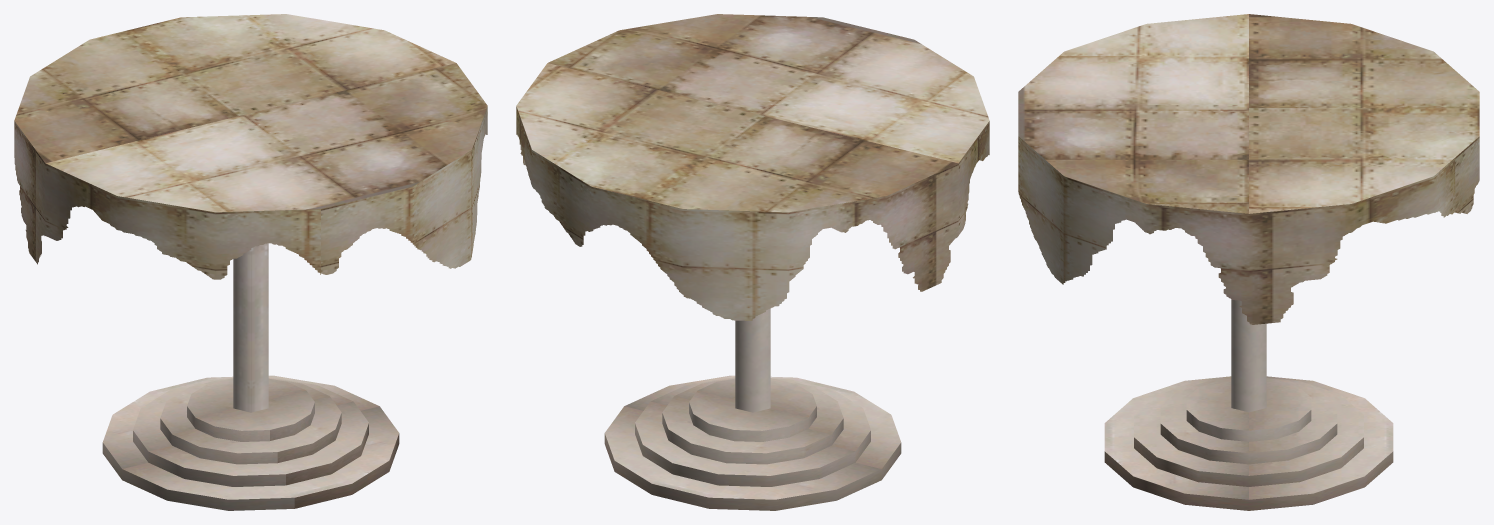
File: table_round_short.fbx
3 views of the same model, side by side, from view 1: azimuth 30°, elevation 25°; view 2: azimuth 150°, elevation 25°; view 3: azimuth 270°, elevation 25° (orthographic).
Visible parts, largest first — view 1: mesh_0, mesh_2, mesh_1; view 2: mesh_0, mesh_2, mesh_1; view 3: mesh_0, mesh_2, mesh_1.
Boxes of the visible parts, x1,y1,x2,y2 form: mesh_0: (14, 14, 487, 279); mesh_2: (102, 375, 399, 510); mesh_1: (233, 243, 268, 412); mesh_0: (516, 14, 989, 320); mesh_2: (604, 375, 901, 510); mesh_1: (735, 308, 770, 412); mesh_0: (1018, 14, 1479, 324); mesh_2: (1104, 376, 1393, 510); mesh_1: (1231, 299, 1266, 412).
Size of the model in its own units: 76.9 by 60 by 74.97.
Materials: 1 (1 with a texture image).
